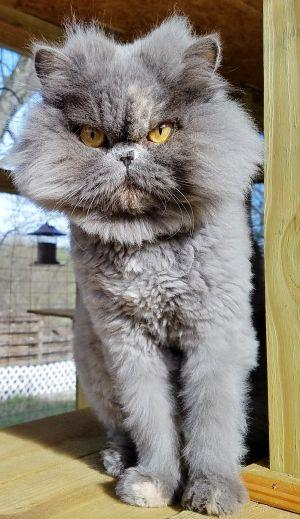persian: (16, 11, 254, 244)
